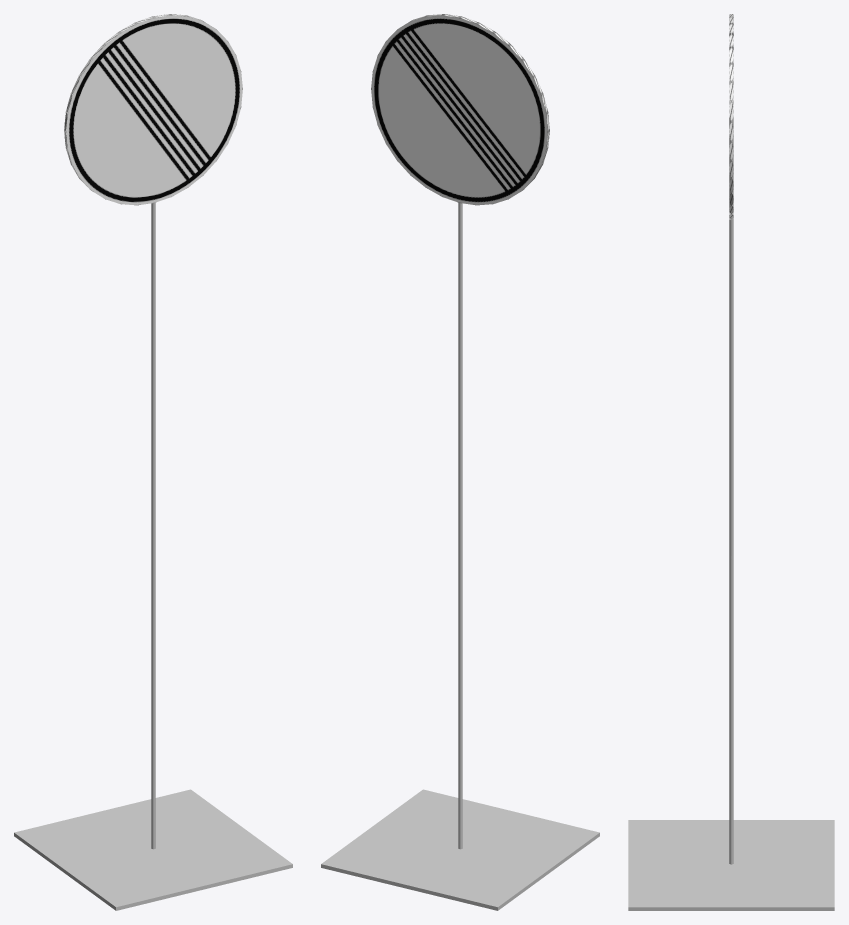
File: Aufhebung der Geschwindigkeitsbegrenzung.fbx
3 views of the same model, side by side, from view 1: azimuth 30°, elevation 25°; view 2: azimuth 150°, elevation 25°; view 3: azimuth 270°, elevation 25° (orthographic).
Visible parts, largest first — view 1: Schild, Cube, Cylinder; view 2: Schild, Cube, Cylinder; view 3: Cube, Cylinder, Schild.
Boxes of the visible parts, x1=… form: Schild: x1=64, y1=14, x2=242, y2=205; Cube: x1=14, y1=789, x2=292, y2=910; Cylinder: x1=151, y1=202, x2=155, y2=849; Schild: x1=371, y1=14, x2=549, y2=205; Cube: x1=321, y1=789, x2=599, y2=910; Cylinder: x1=458, y1=202, x2=462, y2=849; Cube: x1=628, y1=820, x2=834, y2=910; Cylinder: x1=729, y1=117, x2=733, y2=864; Schild: x1=729, y1=14, x2=733, y2=220.
Size of the model in its own units: 69.91 by 315 by 69.91.
